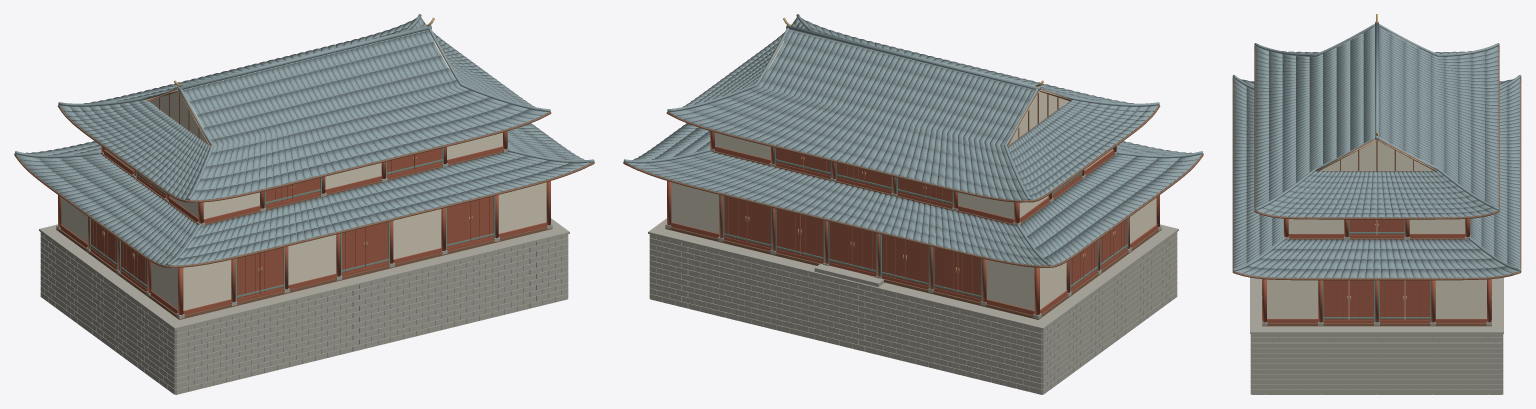
The model's file is Keep_LOD1.fbx.
3 renders of one model, left to right at view 1: azimuth 30°, elevation 25°; view 2: azimuth 150°, elevation 25°; view 3: azimuth 270°, elevation 25°, orthographic. The views are drawn at different scales.
Parts seen in each view (by area): view 1: Keep_Detail1_Roof, Keep_Detail1_Stone, Keep_Detail1_Vermilion, Keep_Detail1_Plaster, Keep_Detail1_Timber, Keep_Detail1_Jade; view 2: Keep_Detail1_Roof, Keep_Detail1_Stone, Keep_Detail1_Vermilion, Keep_Detail1_Plaster, Keep_Detail1_Timber, Keep_Detail1_Jade; view 3: Keep_Detail1_Roof, Keep_Detail1_Stone, Keep_Detail1_Vermilion, Keep_Detail1_Plaster, Keep_Detail1_Timber, Keep_Detail1_Jade.
Part boxes in pixels (x1=…): Keep_Detail1_Roof: x1=14, y1=14, x2=594, y2=267; Keep_Detail1_Stone: x1=39, y1=148, x2=569, y2=394; Keep_Detail1_Vermilion: x1=58, y1=131, x2=550, y2=315; Keep_Detail1_Plaster: x1=61, y1=30, x2=546, y2=310; Keep_Detail1_Timber: x1=14, y1=17, x2=594, y2=319; Keep_Detail1_Jade: x1=89, y1=106, x2=495, y2=301; Keep_Detail1_Roof: x1=623, y1=14, x2=1203, y2=267; Keep_Detail1_Stone: x1=648, y1=148, x2=1178, y2=394; Keep_Detail1_Vermilion: x1=667, y1=131, x2=1159, y2=315; Keep_Detail1_Plaster: x1=671, y1=30, x2=1156, y2=310; Keep_Detail1_Timber: x1=623, y1=17, x2=1203, y2=319; Keep_Detail1_Jade: x1=722, y1=106, x2=1128, y2=301; Keep_Detail1_Roof: x1=1232, y1=22, x2=1521, y2=278; Keep_Detail1_Stone: x1=1250, y1=235, x2=1503, y2=394; Keep_Detail1_Vermilion: x1=1262, y1=218, x2=1491, y2=323; Keep_Detail1_Plaster: x1=1267, y1=32, x2=1486, y2=319; Keep_Detail1_Timber: x1=1232, y1=46, x2=1521, y2=326; Keep_Detail1_Jade: x1=1322, y1=219, x2=1431, y2=321.
Bounding box in the file's own units: 53.44 × 29.72 × 33.47.
